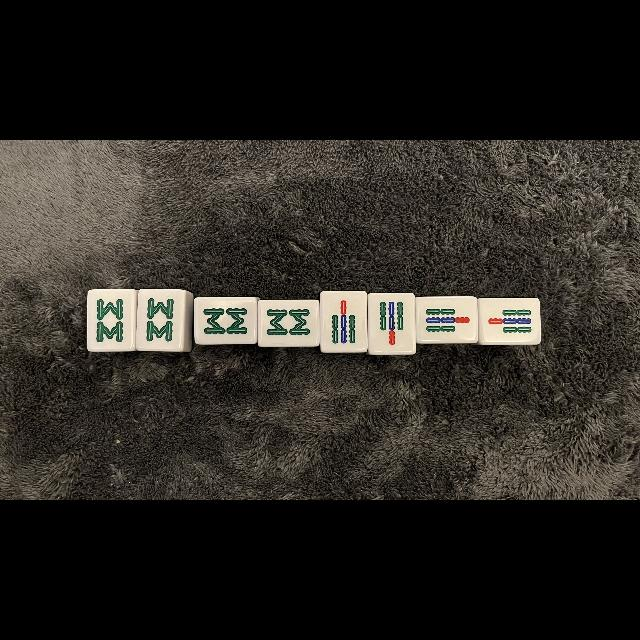b7: (370, 294, 416, 356), (417, 296, 477, 342), (321, 292, 367, 351), (479, 298, 538, 342)
b8: (138, 290, 185, 350), (259, 300, 319, 346), (88, 290, 134, 348), (195, 298, 255, 342)
